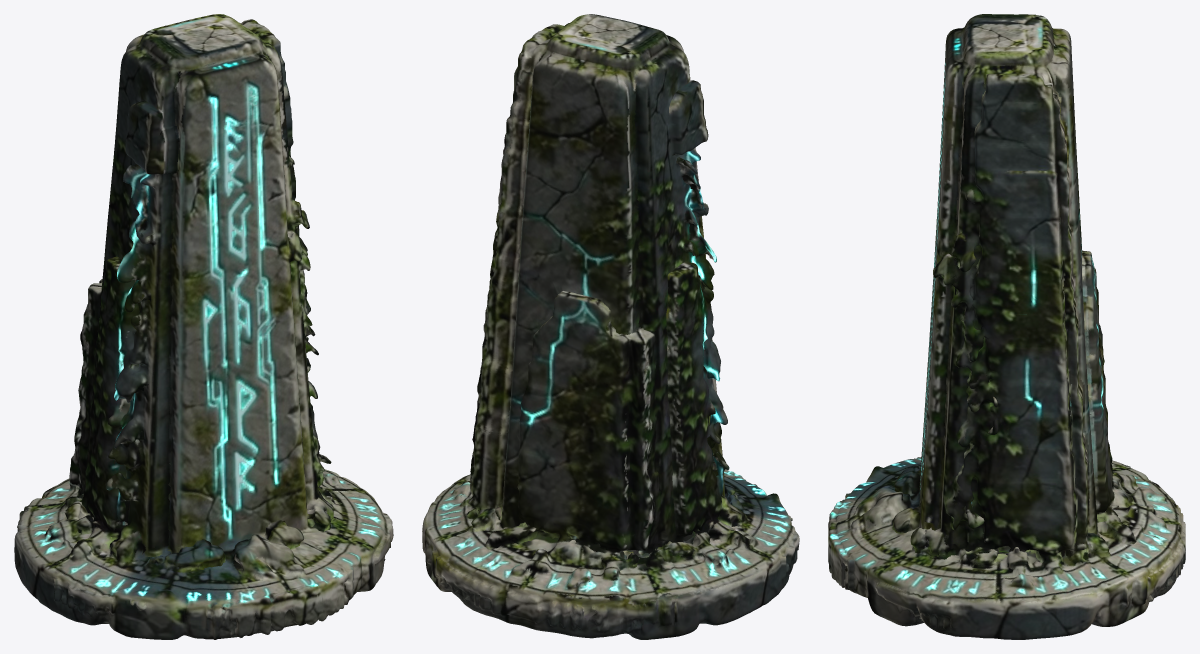
File: rune_monolith.glb
3 views of the same model, side by side, from view 1: azimuth 30°, elevation 25°; view 2: azimuth 150°, elevation 25°; view 3: azimuth 270°, elevation 25° (orthographic).
Visible parts, largest first — view 1: geometry_0; view 2: geometry_0; view 3: geometry_0.
Part boxes in pixels (left/top/right/bottom): geometry_0: left=14, top=14, right=393, bottom=639; geometry_0: left=422, top=14, right=799, bottom=639; geometry_0: left=828, top=14, right=1185, bottom=639.
Size of the model in its own units: 1.26 by 1.99 by 1.21.
Materials: 1 (1 with a texture image).
